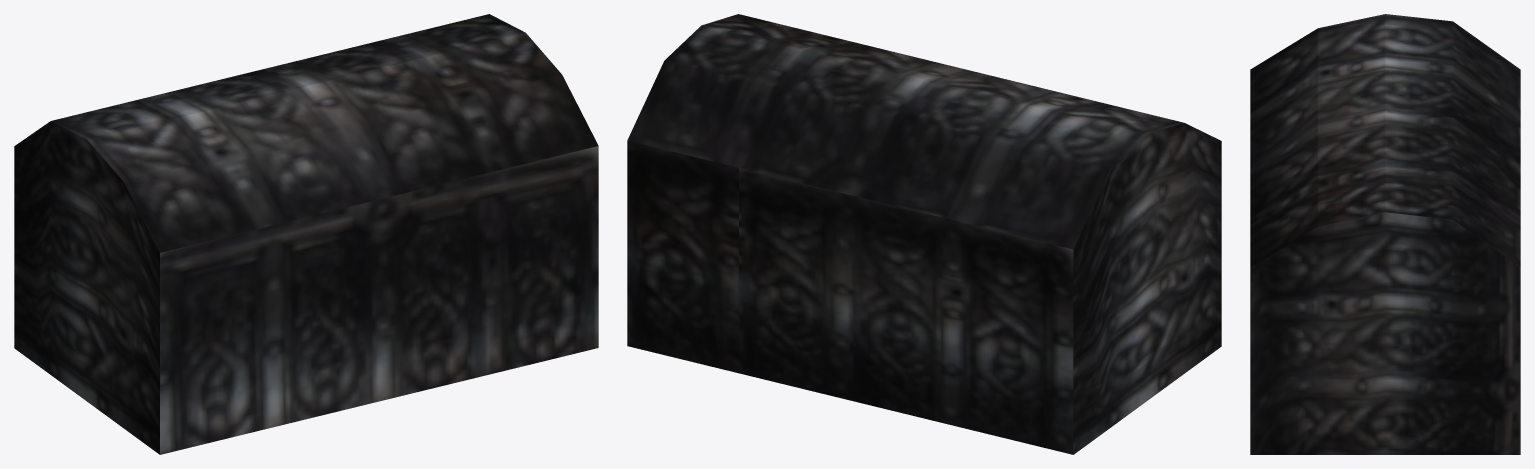
File: chest.glb
3 renders of one model, left to right at view 1: azimuth 30°, elevation 25°; view 2: azimuth 150°, elevation 25°; view 3: azimuth 270°, elevation 25°, orthographic. The views are drawn at different scales.
Parts seen in each view (by area): view 1: Cube; view 2: Cube; view 3: Cube.
Part boxes in pixels (<box>): Cube: <box>14,14,598,454</box>; Cube: <box>627,14,1221,454</box>; Cube: <box>1250,14,1520,454</box>.
Bounding box in the file's own units: 2.69 × 1.53 × 1.55.
1 material, 1 textured.
